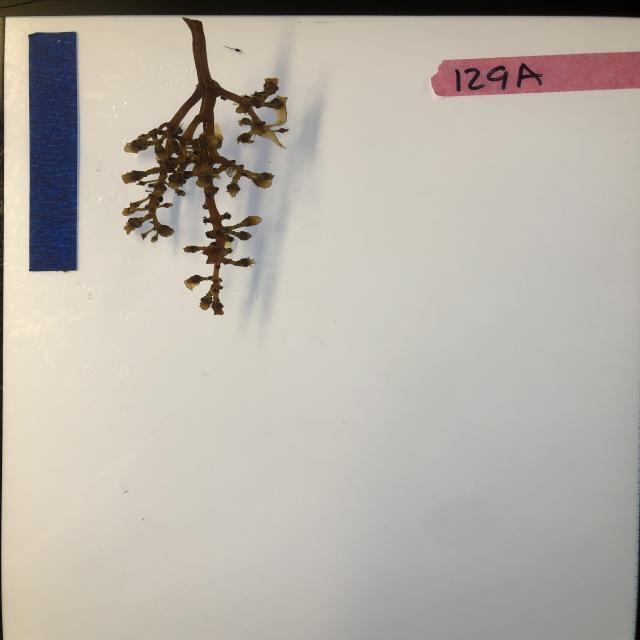index: (433, 54, 640, 98)
measure_label: (26, 30, 80, 274)
rachis_cluster: (121, 13, 293, 320)
